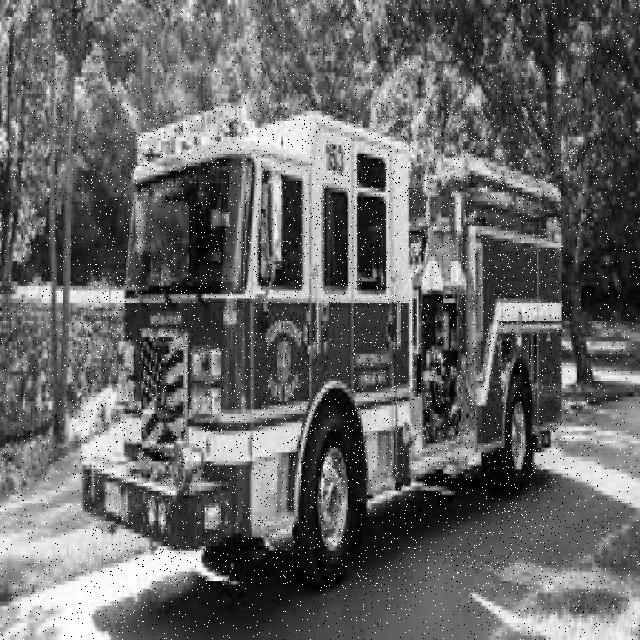Fire Truck: (81, 102, 564, 592)
